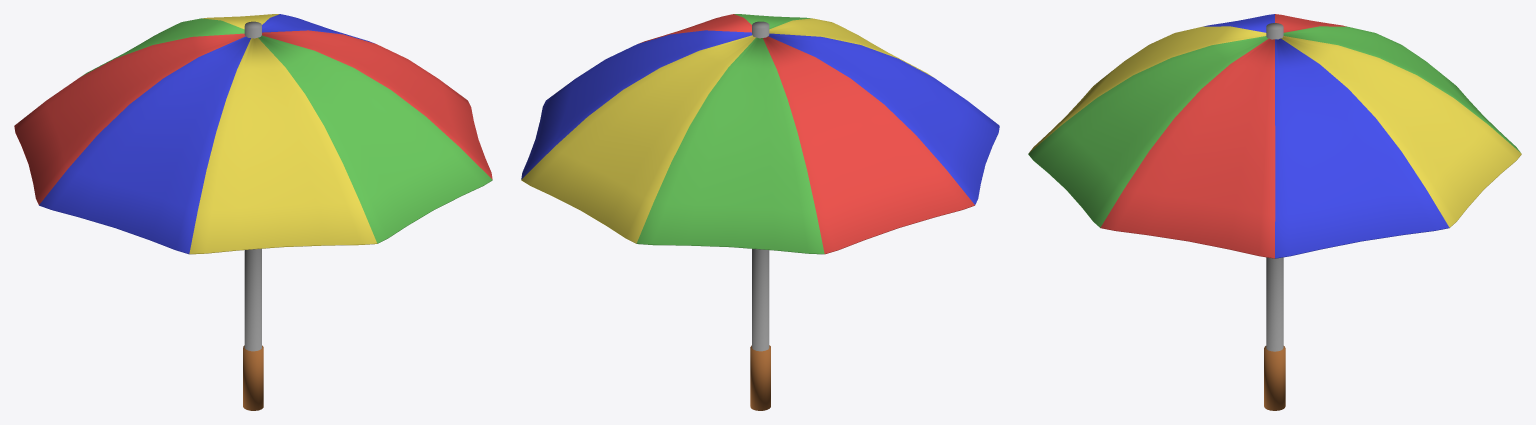
Rendered from Frevo_Umbrella.fbx.
3 views of the same model, side by side, from view 1: azimuth 30°, elevation 25°; view 2: azimuth 150°, elevation 25°; view 3: azimuth 270°, elevation 25° (orthographic).
Visible parts, largest first — view 1: Frevo_Umbrella; view 2: Frevo_Umbrella; view 3: Frevo_Umbrella.
Boxes of the visible parts, x1,y1,x2,y2 form: Frevo_Umbrella: [14, 14, 492, 410]; Frevo_Umbrella: [521, 14, 999, 410]; Frevo_Umbrella: [1028, 14, 1521, 410].
Size of the model in its own units: 234 by 199 by 234.
